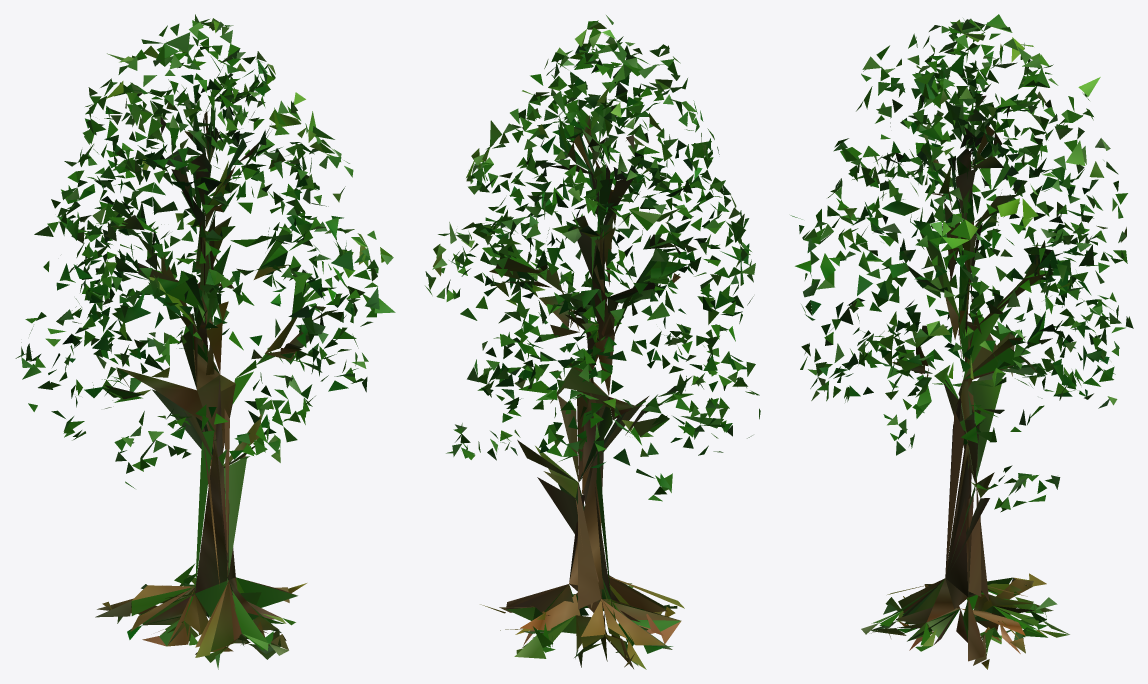
File: meshy-tree-m0-lod.glb
The picture shows the model from 3 angles, left to right: view 1: azimuth 30°, elevation 25°; view 2: azimuth 150°, elevation 25°; view 3: azimuth 270°, elevation 25°; orthographic projection.
Visible parts, largest first — view 1: Mesh_0; view 2: Mesh_0; view 3: Mesh_0.
Boxes of the visible parts, <box> form: Mesh_0: <box>15,14,395,669</box>; Mesh_0: <box>425,15,760,669</box>; Mesh_0: <box>790,14,1133,669</box>.
Bounding box in the file's own units: 1.07 × 1.94 × 0.9782.
Materials: 1 (1 with a texture image).
